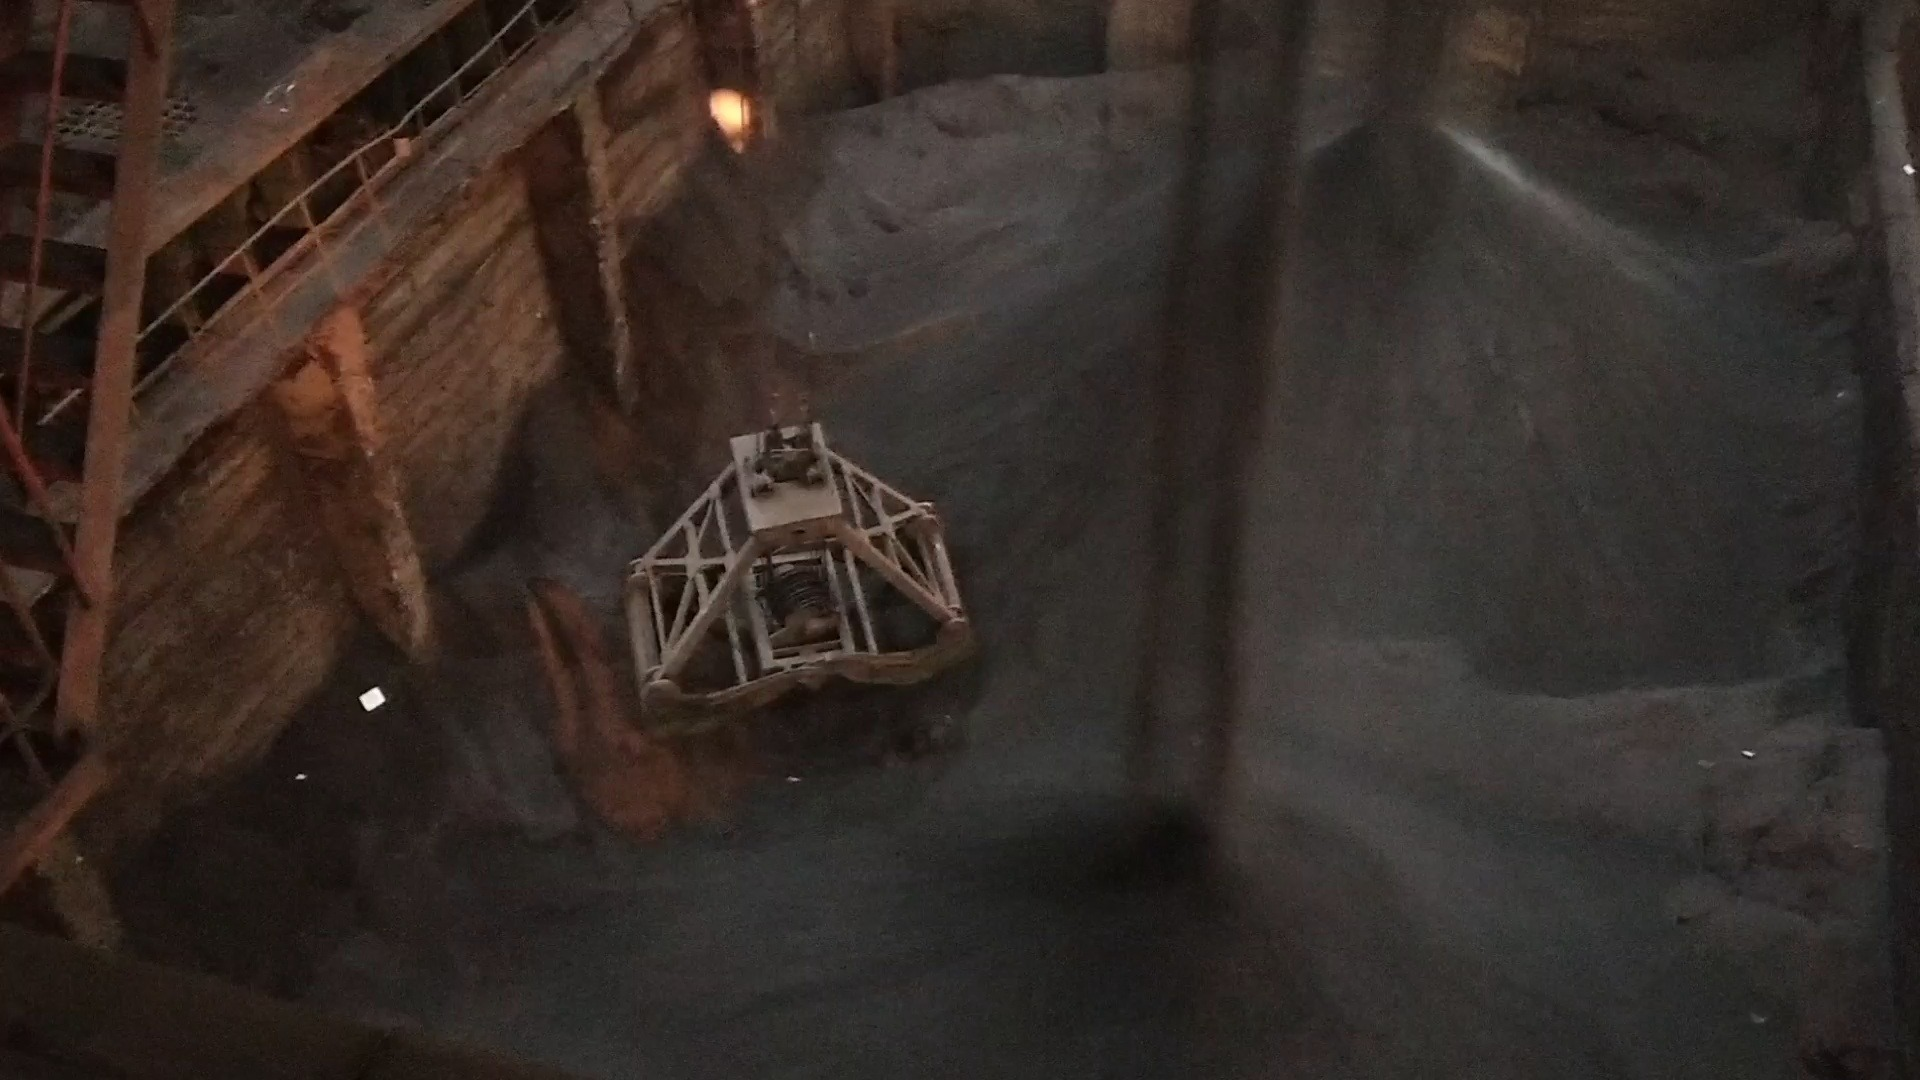grab: (612, 381, 977, 727)
